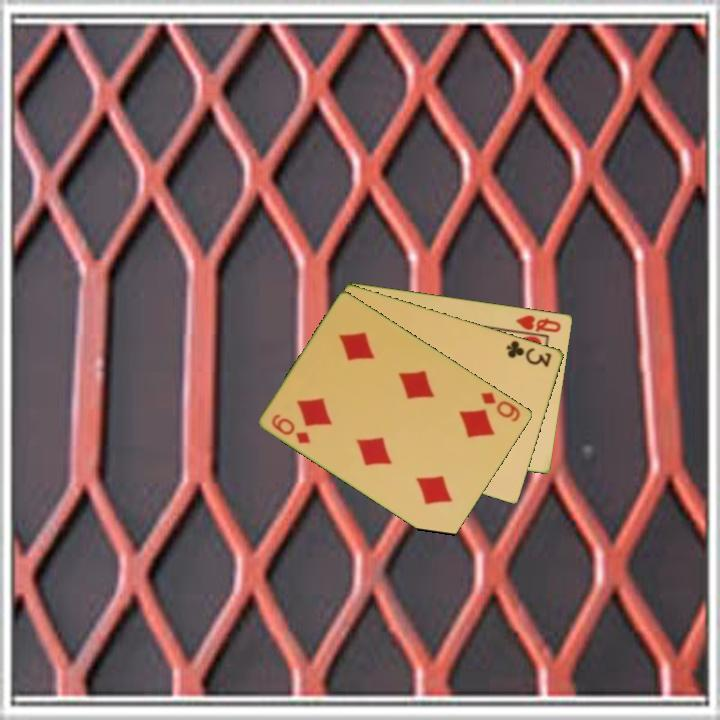3c: (503, 337, 555, 370)
6d: (477, 388, 524, 425), (268, 410, 314, 447)
Qh: (513, 311, 564, 335)
